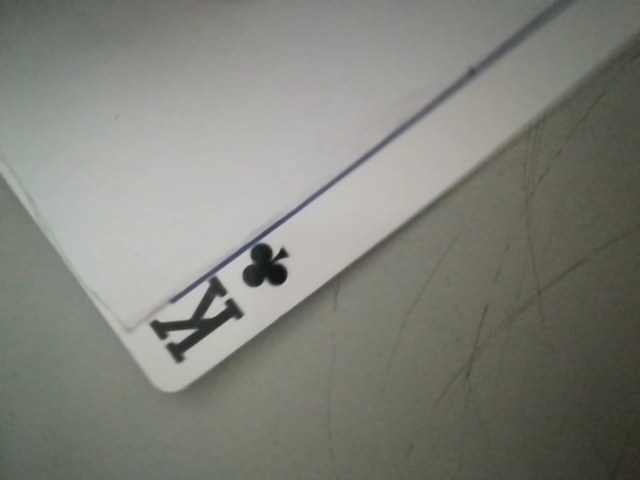mh k: (144, 236, 302, 377)
